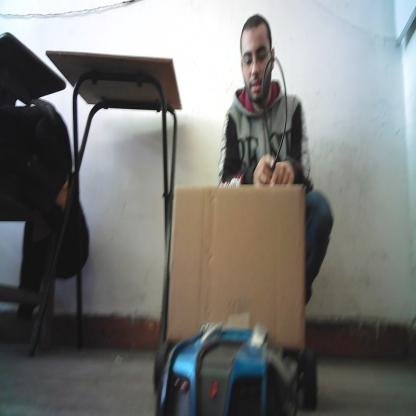LeadTruck: (153, 182, 322, 416)
